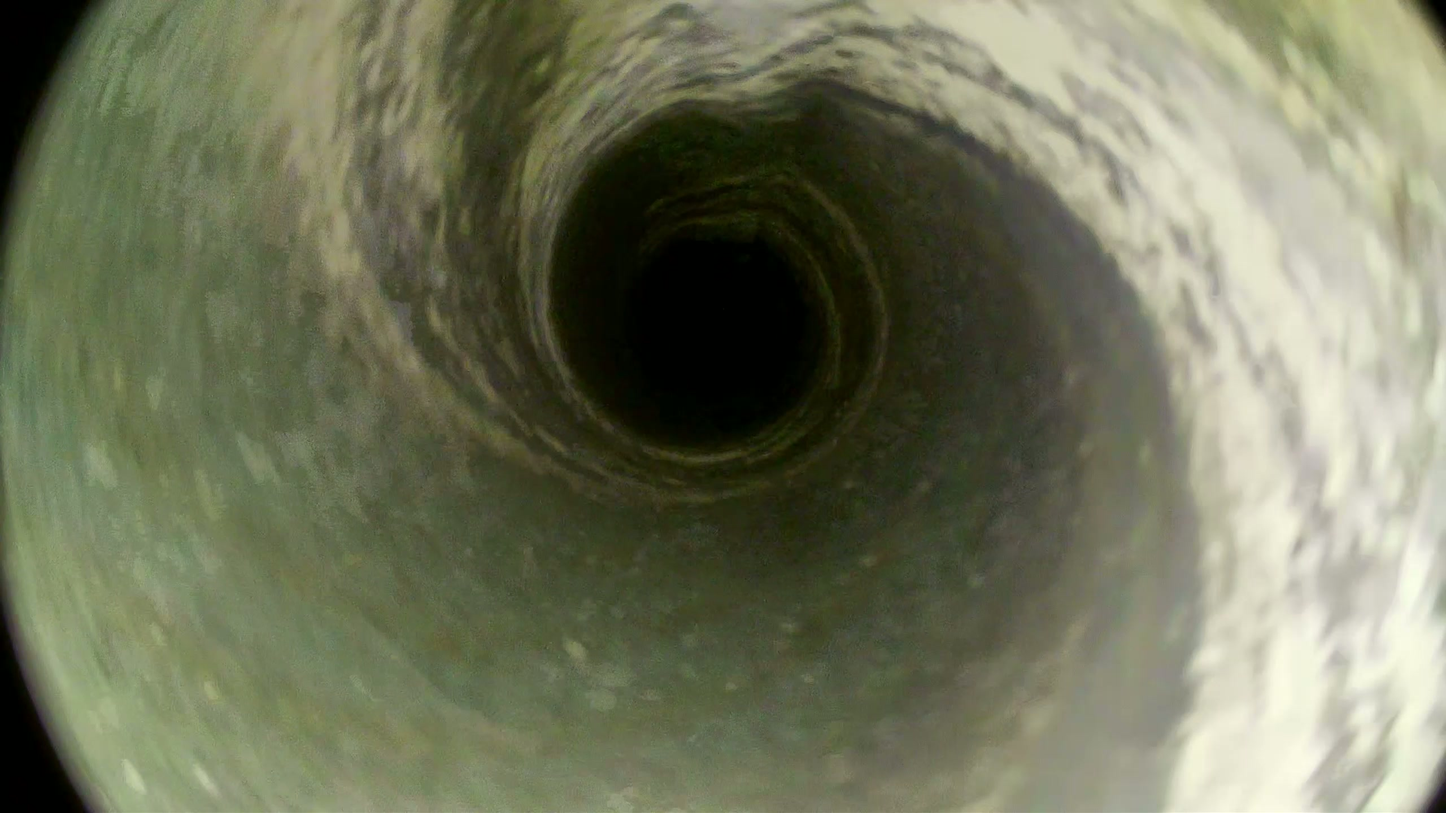hole: (635, 242, 798, 404)
